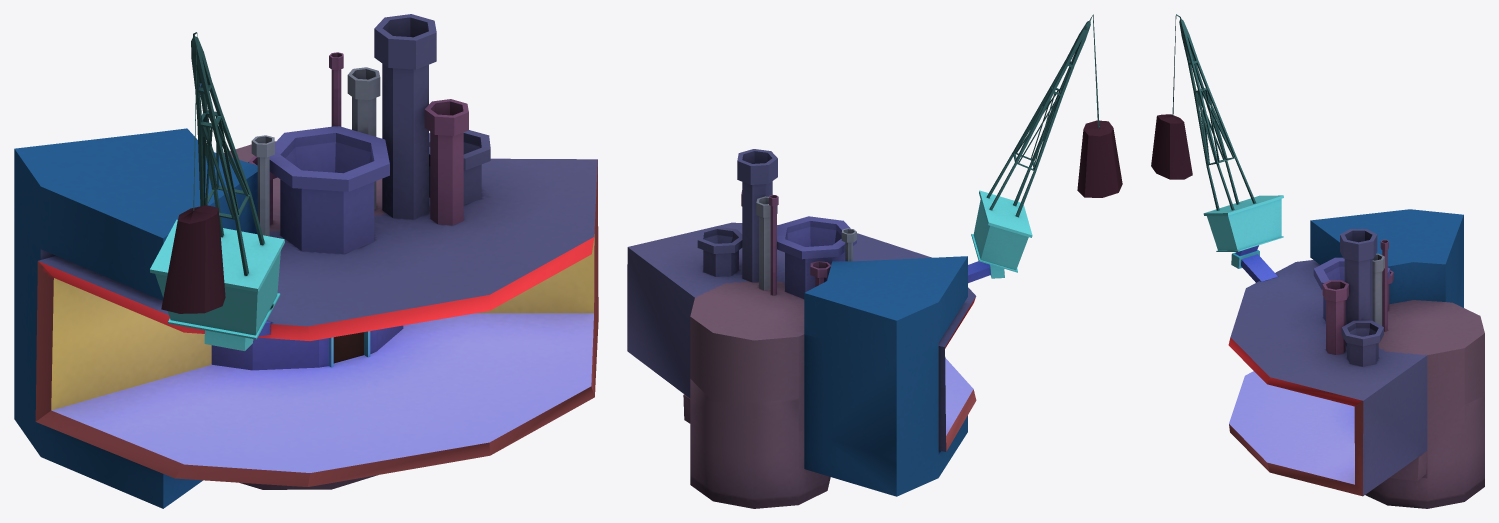
The model's file is F_Orintation.FBX.
3 views of the same model, side by side, from view 1: azimuth 30°, elevation 25°; view 2: azimuth 150°, elevation 25°; view 3: azimuth 270°, elevation 25° (orthographic). The views are drawn at different scales.
Parts seen in each view (by area): view 1: New Orintation; view 2: New Orintation; view 3: New Orintation.
Part boxes in pixels (box(x1,y1,x2,y2)): New Orintation: box(14, 14, 598, 508); New Orintation: box(627, 14, 1122, 508); New Orintation: box(1151, 14, 1484, 508).
Bounding box in the file's own units: 3563 × 2909 × 3642.
Materials: 1 (1 with a texture image).
